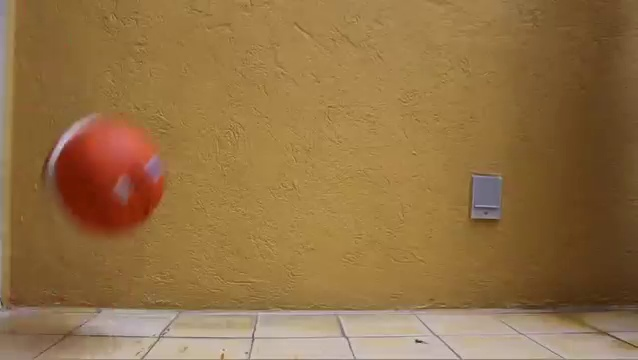ball: (41, 111, 166, 238)
